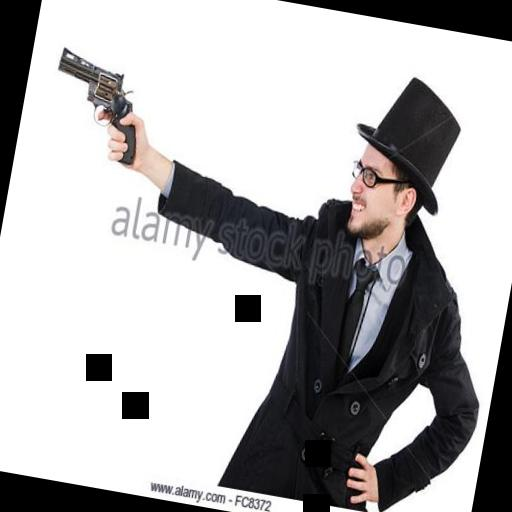Handgun: (41, 40, 152, 165)
